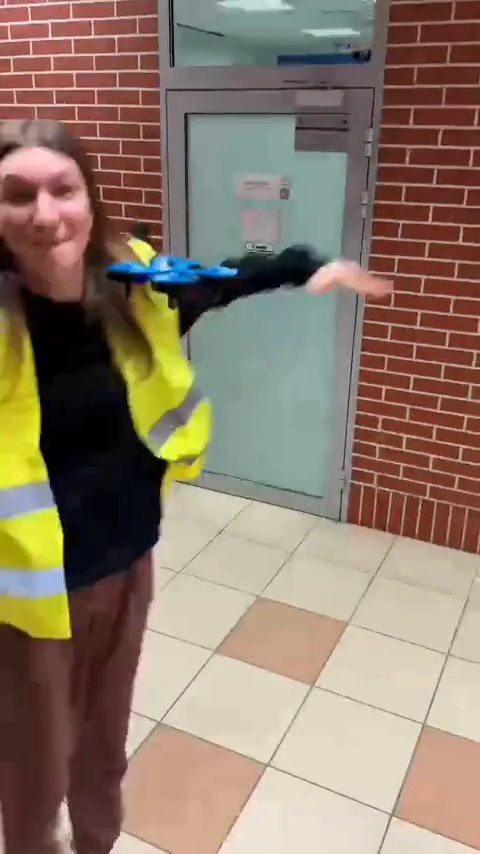drone: (108, 250, 239, 303)
vest: (0, 120, 294, 848)
